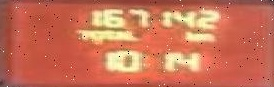0: (114, 49, 140, 70)
1: (101, 50, 116, 70), (160, 51, 174, 70), (87, 9, 101, 26), (158, 10, 172, 26)
2: (194, 9, 220, 29)
4: (174, 50, 198, 70), (172, 10, 194, 27)
6: (101, 8, 123, 28)
7: (125, 7, 147, 26)
X: (123, 28, 136, 41), (196, 31, 212, 41), (87, 29, 101, 40), (183, 30, 196, 41), (101, 28, 112, 41), (76, 29, 87, 40), (112, 29, 123, 40)
